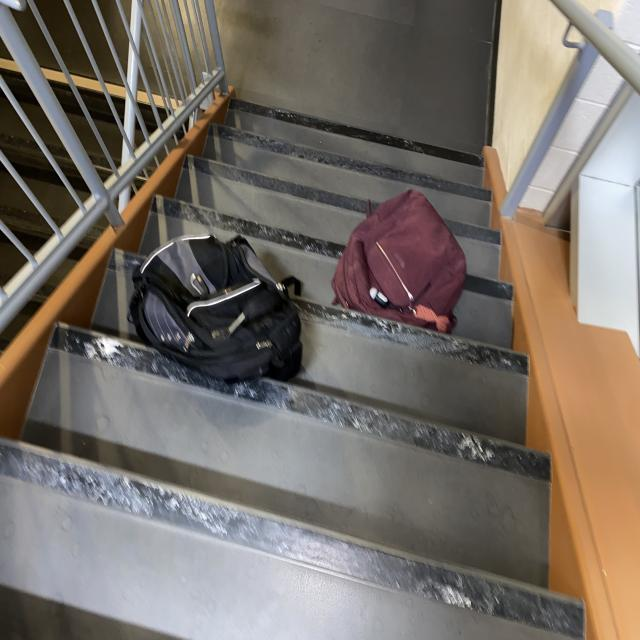Backpacks: (132, 230, 307, 392), (330, 186, 470, 339)
